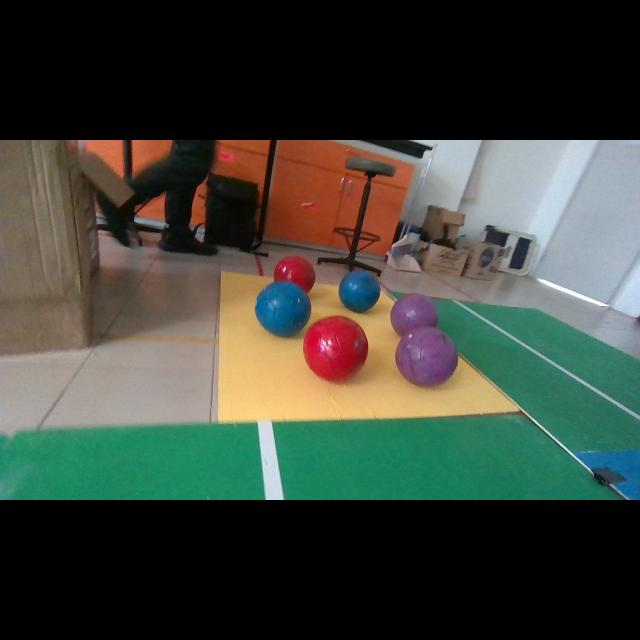B: (255, 280, 311, 336), (339, 270, 380, 312)
P: (395, 328, 458, 386), (390, 294, 439, 336)
R: (304, 315, 368, 382), (274, 255, 315, 292)
